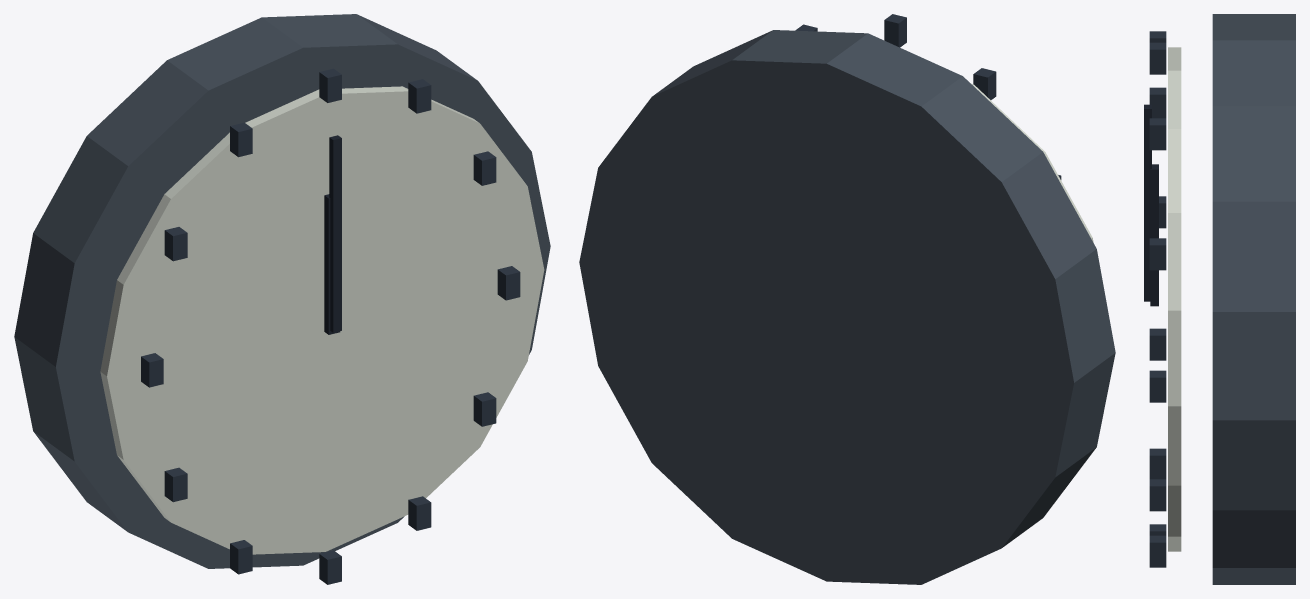
Rendered from station_clock.glb.
3 renders of one model, left to right at view 1: azimuth 30°, elevation 25°; view 2: azimuth 150°, elevation 25°; view 3: azimuth 270°, elevation 25°, orthographic.
Visible parts, largest first — view 1: object 1, move_hand_min, move_hand_hour; view 2: object 1; view 3: object 1, move_hand_min, move_hand_hour.
Boxes of the visible parts, box(x1,y1,x2,y2) form: object 1: box(14, 14, 550, 584); move_hand_min: box(329, 135, 341, 332); move_hand_hour: box(324, 194, 340, 334); object 1: box(579, 14, 1115, 584); object 1: box(1149, 14, 1295, 584); move_hand_min: box(1144, 104, 1151, 301); move_hand_hour: box(1150, 164, 1158, 306).
Bounding box in the file's own units: 0.516 × 0.516 × 0.137.
Materials: 1 (1 with a texture image).
